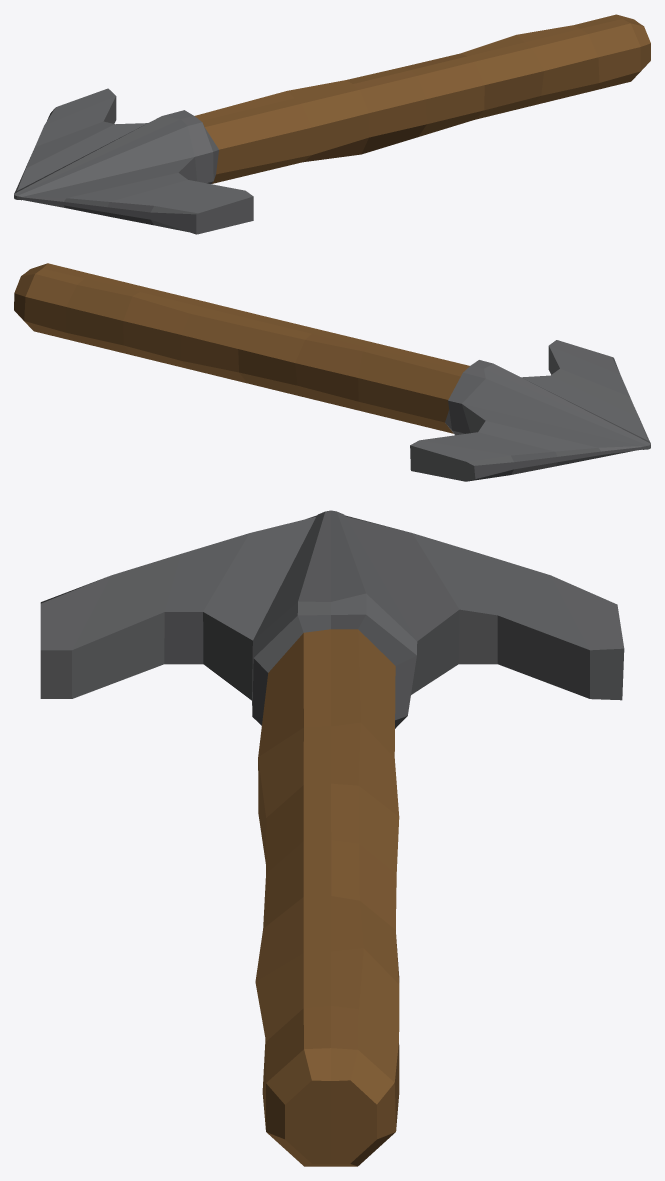
File: Bolt Basic.fbx
The picture shows the model from 3 angles, top to bottom: view 1: azimuth 30°, elevation 25°; view 2: azimuth 150°, elevation 25°; view 3: azimuth 270°, elevation 25°; orthographic projection. The views are drawn at different scales.
Parts seen in each view (by area): view 1: Cylinder.002; view 2: Cylinder.002; view 3: Cylinder.002.
Boxes of the visible parts, <box> form: Cylinder.002: <box>14,14,650,234</box>; Cylinder.002: <box>14,263,650,481</box>; Cylinder.002: <box>40,510,624,1166</box>.
Bounding box in the file's own units: 121 × 13.4 × 48.73.
1 material, 1 textured.
